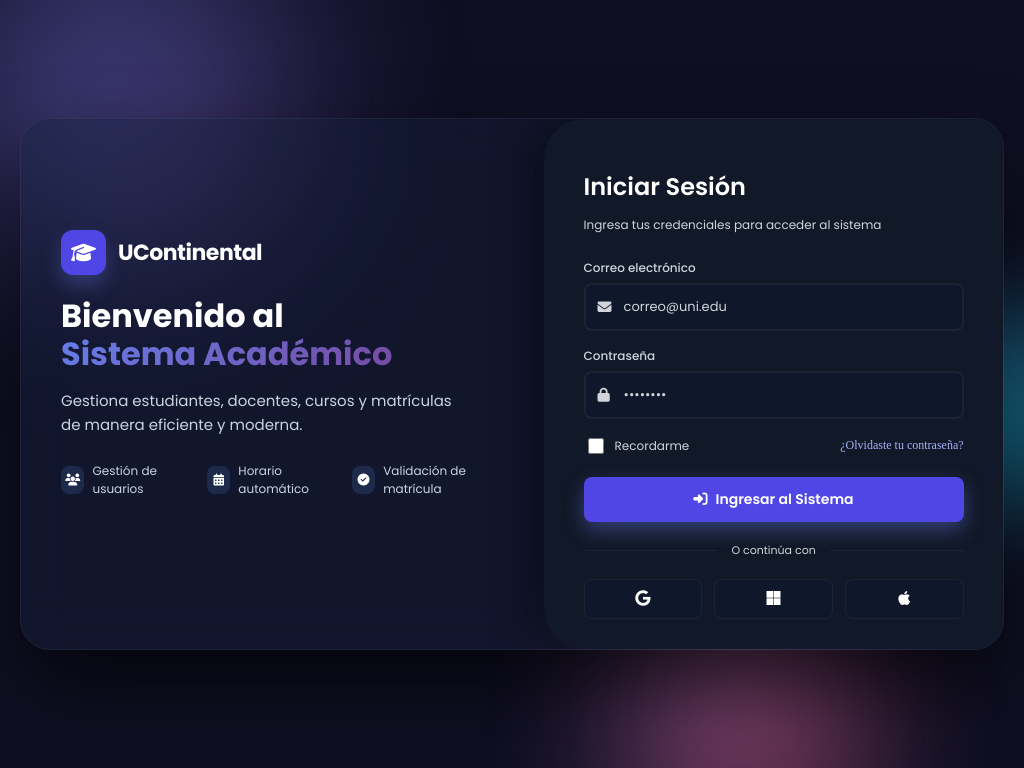
it: Autenticacion - Login/Logout › GP-001 | Golden Path: Admin inicia sesion y accede al dashboard
Step 1. Type "admin@uni.edu" into the field with test id "email-input" → (774, 307), box [584,283,964,331]
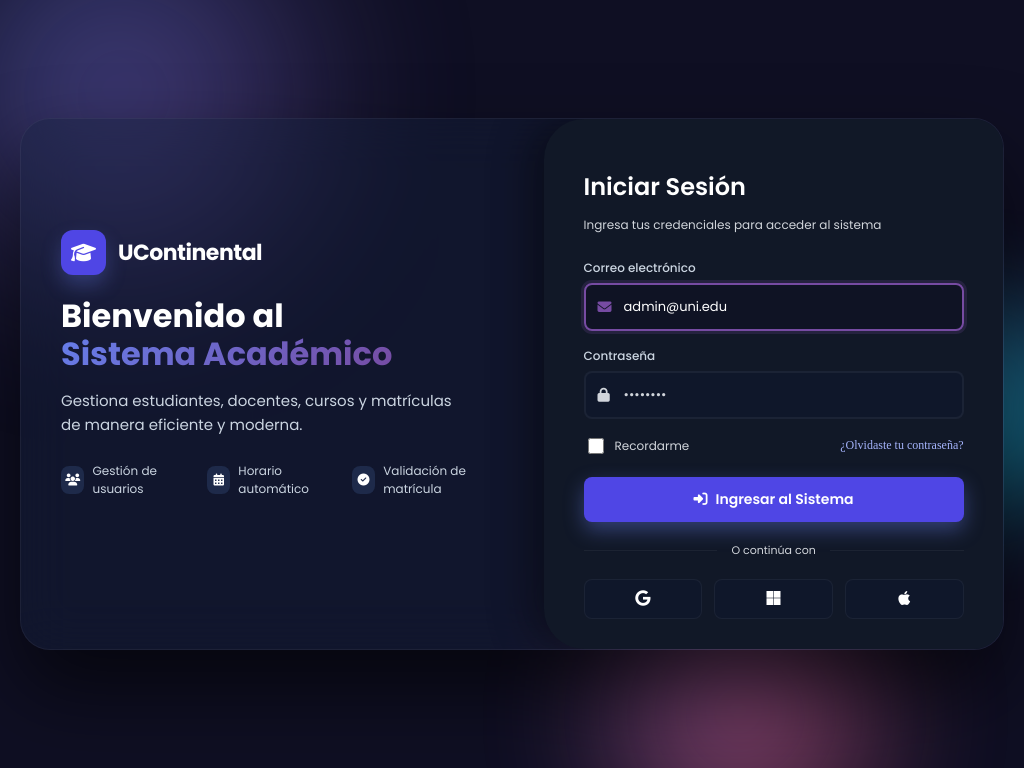
Step 2. Type "admin123" into the password field with test id "password-input" → (774, 395), box [584,371,964,419]
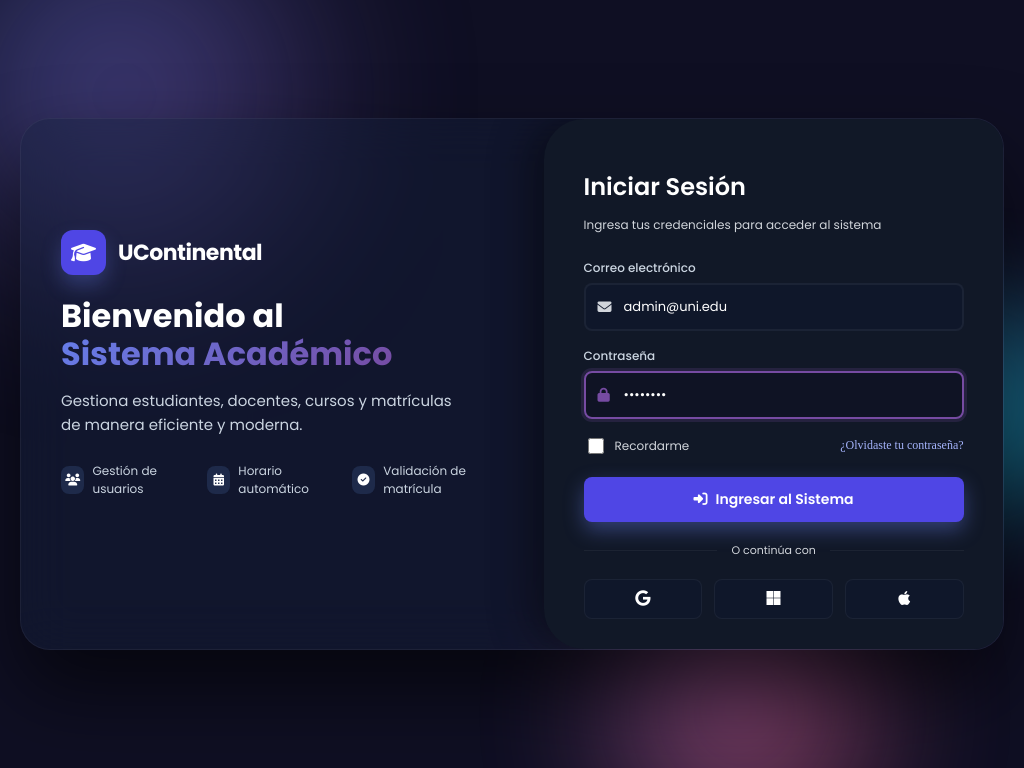
Step 3. Click the button with test id "btn-login" → (774, 500), box [584,477,964,522]
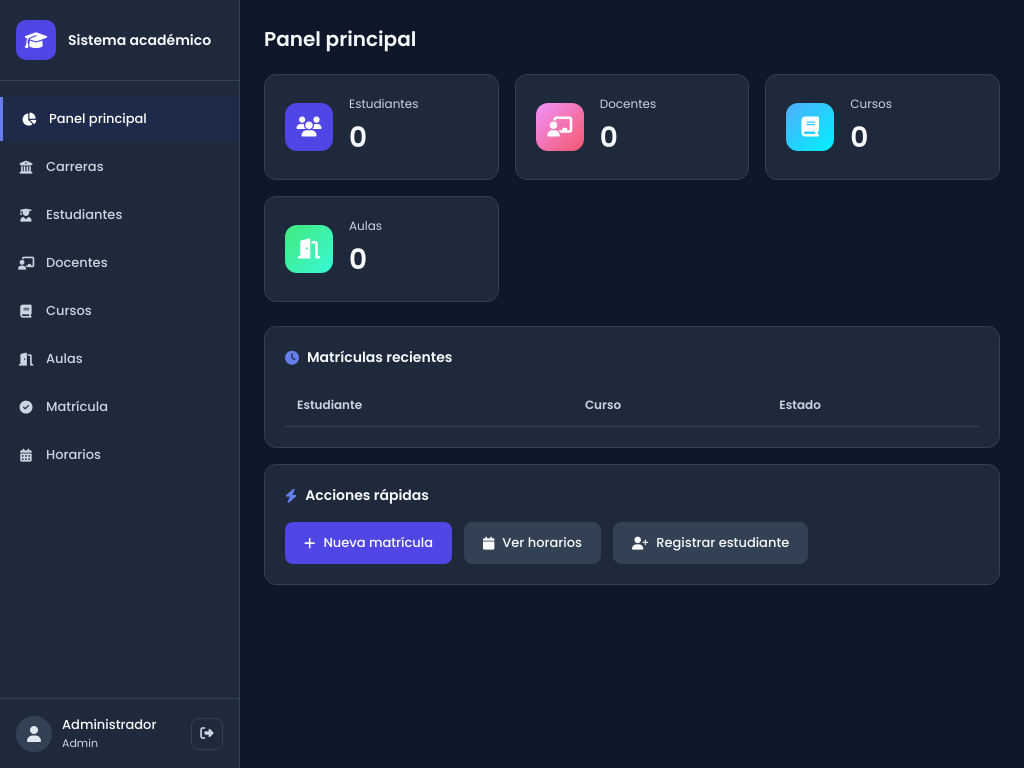
Check: the element with test id "dashboard-content" is shown, box [264,24,1000,585]
